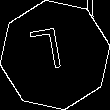L_S: (36, 28, 74, 82)
